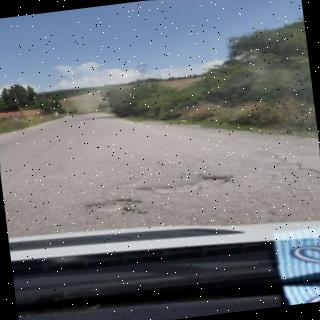pothole: (137, 176, 235, 195), (86, 199, 147, 215)
